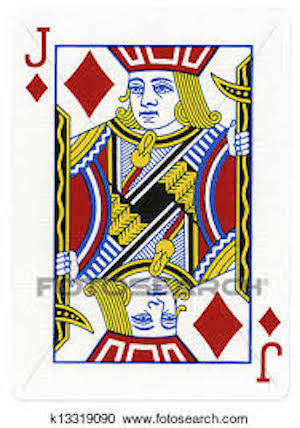JackOfDiamonds: (10, 6, 291, 406)
